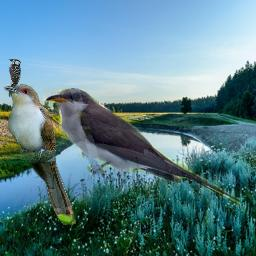Cuckoo: (43, 88, 240, 207), (4, 84, 76, 225)
Woodpecker: (8, 58, 21, 97)
